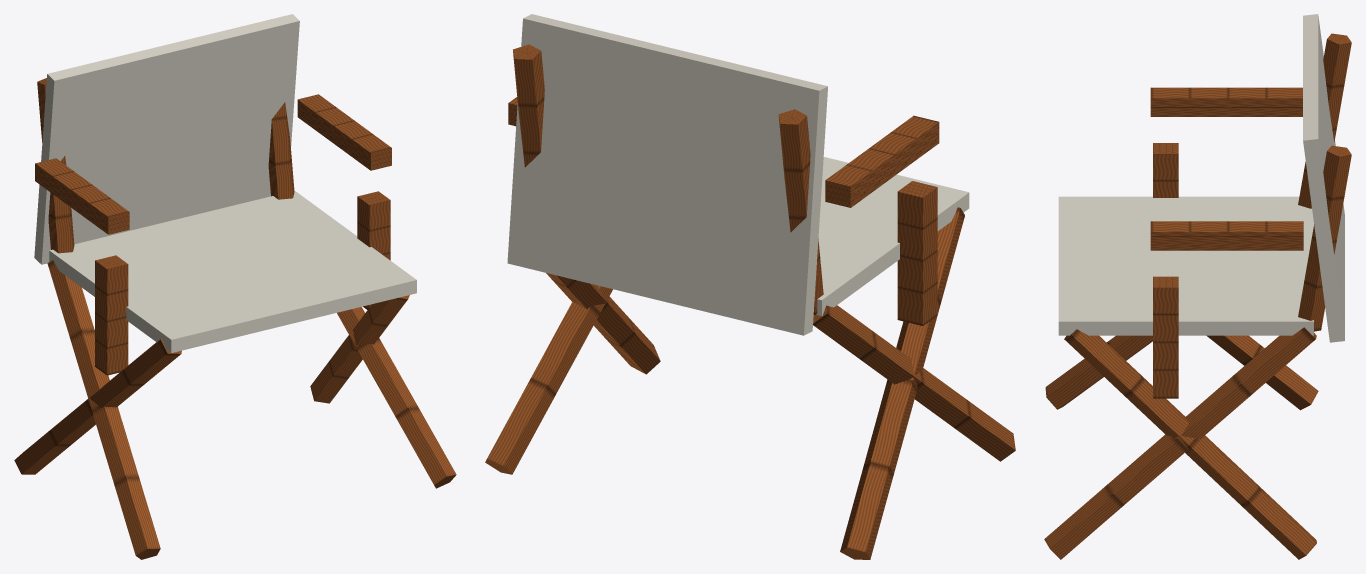
Rendered from safari-camp-and-bush-lodge-folding-camp-chair-20878b9f.glb.
The picture shows the model from 3 angles, left to right: view 1: azimuth 30°, elevation 25°; view 2: azimuth 150°, elevation 25°; view 3: azimuth 270°, elevation 25°; orthographic projection. The views are drawn at different scales.
Visible parts, largest first — view 1: folding-camp-chair-canvas, folding-camp-chair-timber; view 2: folding-camp-chair-canvas, folding-camp-chair-timber; view 3: folding-camp-chair-timber, folding-camp-chair-canvas.
Boxes of the visible parts, box(x1,y1,x2,y2) form: folding-camp-chair-canvas: box(34, 14, 416, 352); folding-camp-chair-timber: box(14, 78, 456, 559); folding-camp-chair-canvas: box(507, 14, 969, 335); folding-camp-chair-timber: box(485, 44, 1015, 559); folding-camp-chair-timber: box(1044, 33, 1351, 559); folding-camp-chair-canvas: box(1058, 14, 1344, 342).
Size of the model in its own units: 0.7553 by 0.8803 by 0.6031.
Materials: 2 (1 with a texture image).
